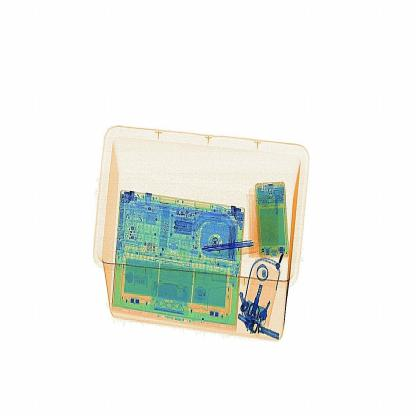pliers: (197, 230, 260, 264)
